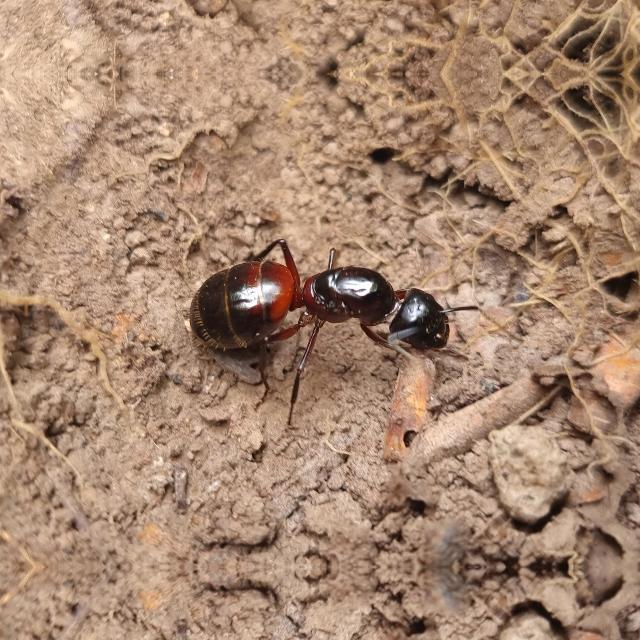Camponotus: (177, 229, 485, 379)
